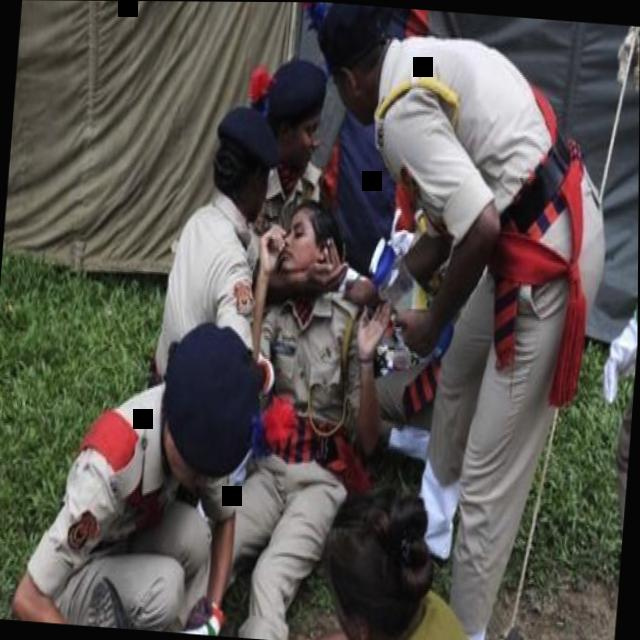Fall-Detected: (213, 175, 397, 640)
